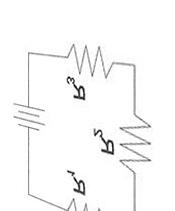resistor: (113, 105, 154, 172), (55, 36, 118, 76)
